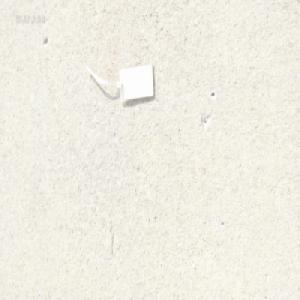LuggageTag: (83, 59, 155, 105)
